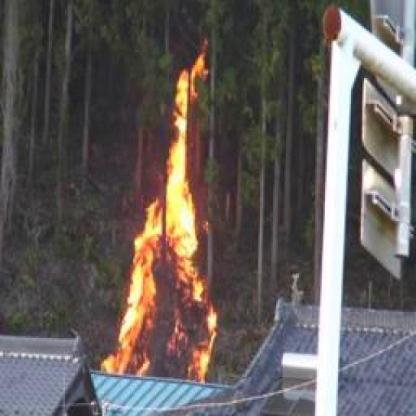fire: (109, 56, 221, 383)
